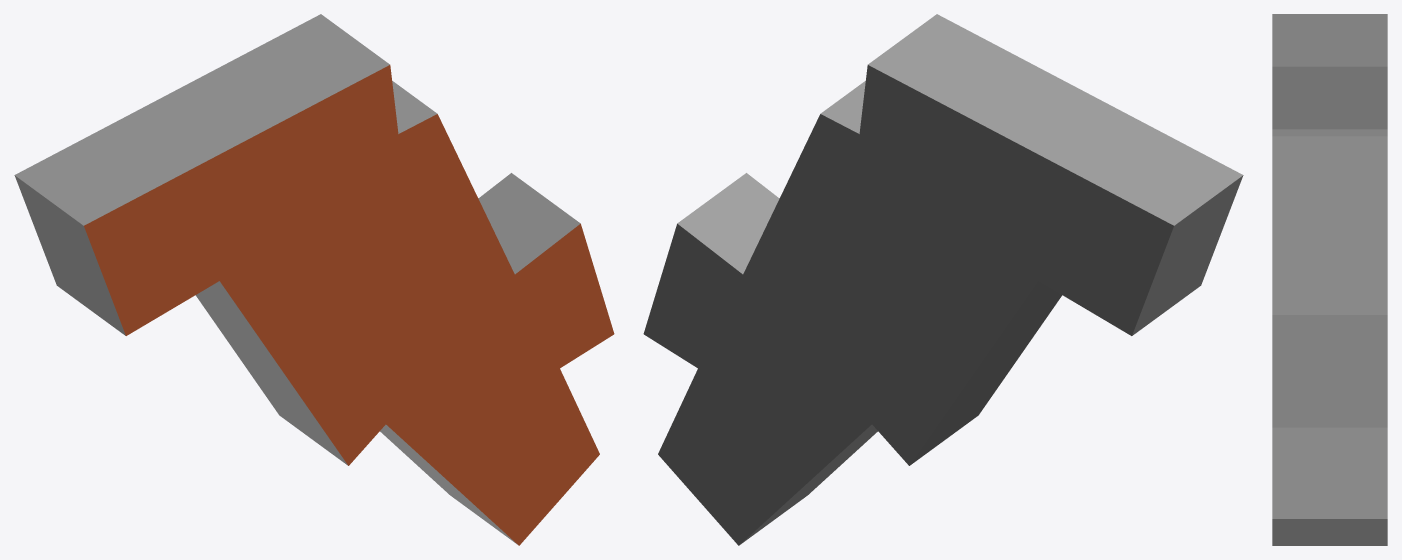
Rendered from construction_4491_assumed_A_Casa_h6m.obj.
3 views of the same model, side by side, from view 1: azimuth 30°, elevation 25°; view 2: azimuth 150°, elevation 25°; view 3: azimuth 270°, elevation 25° (orthographic). The views are drawn at different scales.
Visible parts, largest first — view 1: construction_4491_assumed_A_Casa; view 2: construction_4491_assumed_A_Casa; view 3: construction_4491_assumed_A_Casa.
Part boxes in pixels (x1=…): construction_4491_assumed_A_Casa: x1=14, y1=14, x2=614, y2=545; construction_4491_assumed_A_Casa: x1=643, y1=14, x2=1243, y2=545; construction_4491_assumed_A_Casa: x1=1272, y1=14, x2=1387, y2=545.
Size of the model in its own units: 26.53 by 24.49 by 6.
